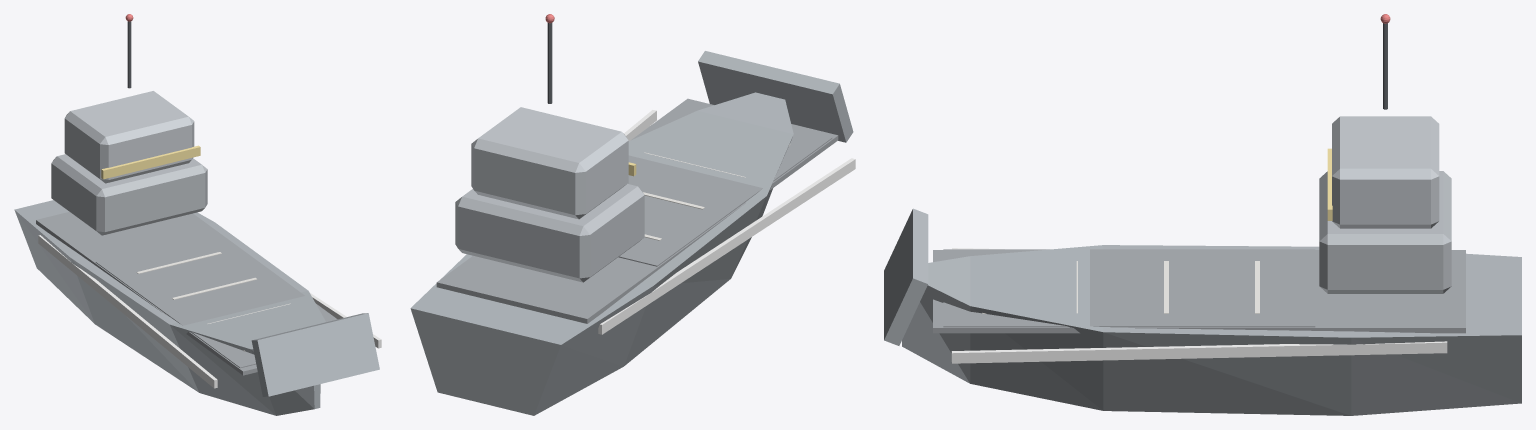
The model's file is landingship.glb.
3 renders of one model, left to right at view 1: azimuth 30°, elevation 25°; view 2: azimuth 150°, elevation 25°; view 3: azimuth 270°, elevation 25°, orthographic. The views are drawn at different scales.
Visible parts, largest first — view 1: main; view 2: main; view 3: main.
Part boxes in pixels (left/top/right/bottom): main: left=14, top=14, right=381, bottom=415; main: left=410, top=14, right=855, bottom=415; main: left=884, top=14, right=1521, bottom=415.
Bounding box in the file's own units: 0.602 × 0.992 × 1.54.
